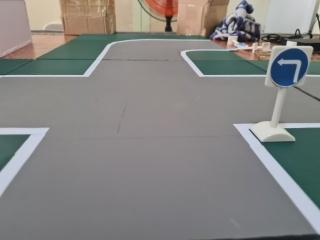left: (268, 44, 310, 90)
